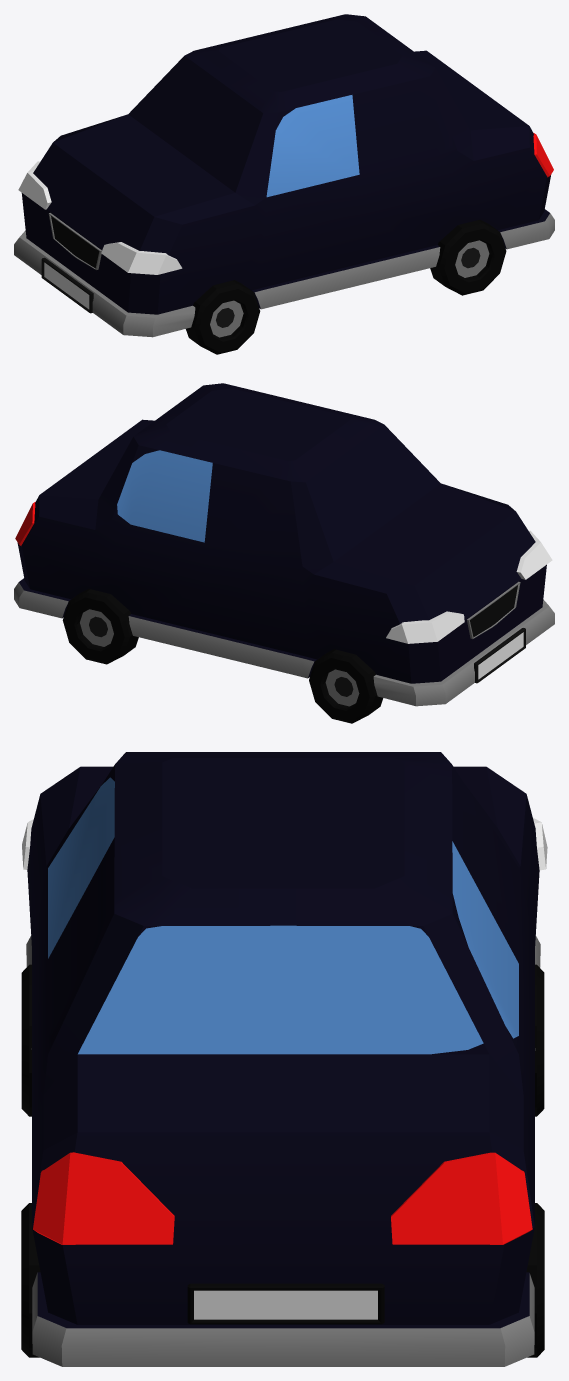
Rendered from CocheVer2.FBX.
3 renders of one model, top to bottom at view 1: azimuth 30°, elevation 25°; view 2: azimuth 150°, elevation 25°; view 3: azimuth 270°, elevation 25°, orthographic. The views are drawn at different scales.
Parts seen in each view (by area): view 1: Vehiculo005, Cylinder007, Foco008, RadiadorCoche003, MatriculaDelantera003; view 2: Vehiculo005, Cylinder007, Foco008, RadiadorCoche003, MatriculaDelantera003; view 3: Vehiculo005, FocoTrasero004, MatriculaTrasera003, Cylinder007, Foco008.
Part boxes in pixels (box(x1,y1,x2,y2)): Vehiculo005: box(14, 14, 554, 337); Cylinder007: box(186, 219, 506, 354); Foco008: box(18, 161, 182, 274); RadiadorCoche003: box(48, 213, 101, 269); MatriculaDelantera003: box(41, 257, 93, 313); Vehiculo005: box(14, 383, 554, 706); Cylinder007: box(62, 589, 383, 723); Foco008: box(386, 530, 552, 643); RadiadorCoche003: box(467, 581, 520, 638); MatriculaDelantera003: box(474, 628, 525, 683); Vehiculo005: box(26, 752, 540, 1366); FocoTrasero004: box(33, 1152, 532, 1244); MatriculaTrasera003: box(187, 1283, 384, 1324); Cylinder007: box(21, 964, 544, 1357); Foco008: box(22, 818, 547, 870).
Size of the model in its own units: 151 by 71.47 by 79.18.
